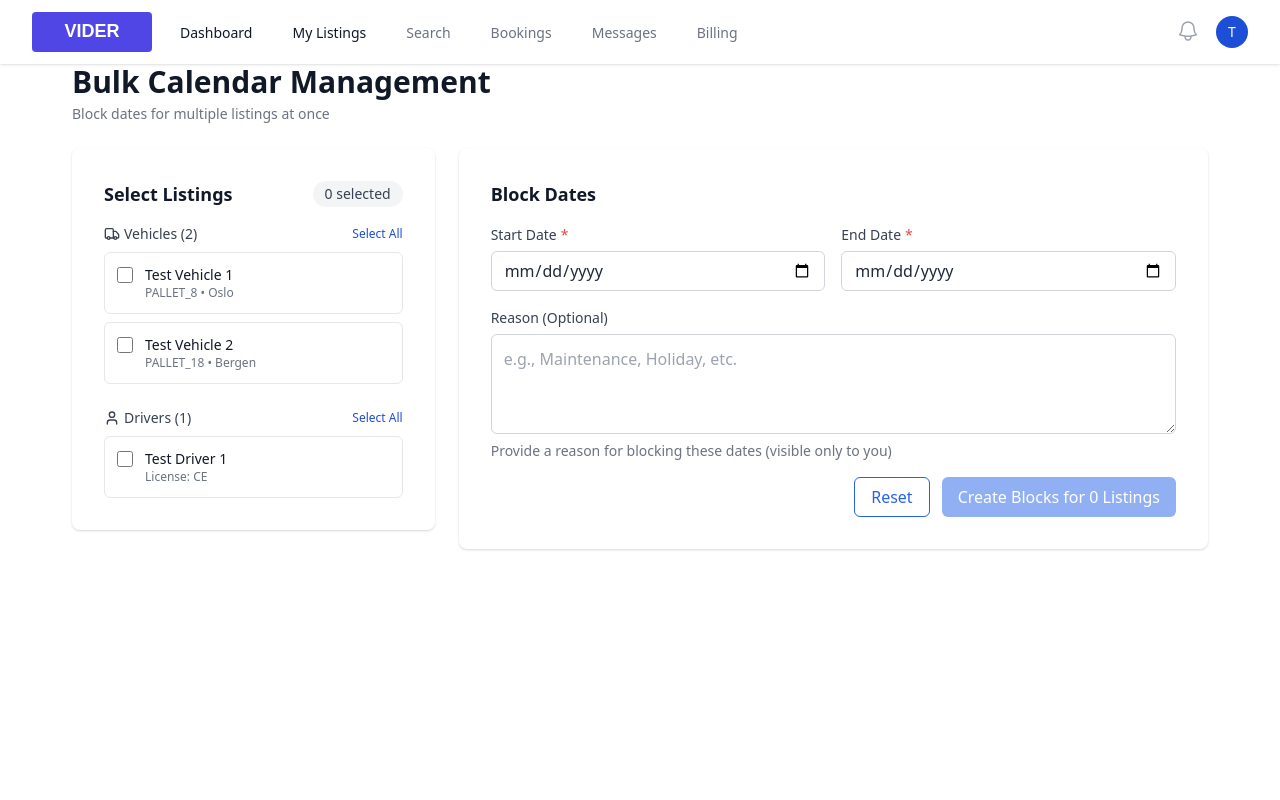
Test: BulkCalendarManagementPage › allows selecting all vehicles
Check: the text "Test Vehicle 1" is shown, box [145, 265, 233, 284]
// Click "Select All" for vehicles
Click the button "Select All" in the row of "Vehicles (" at x=378, y=234, box [352, 226, 403, 242]
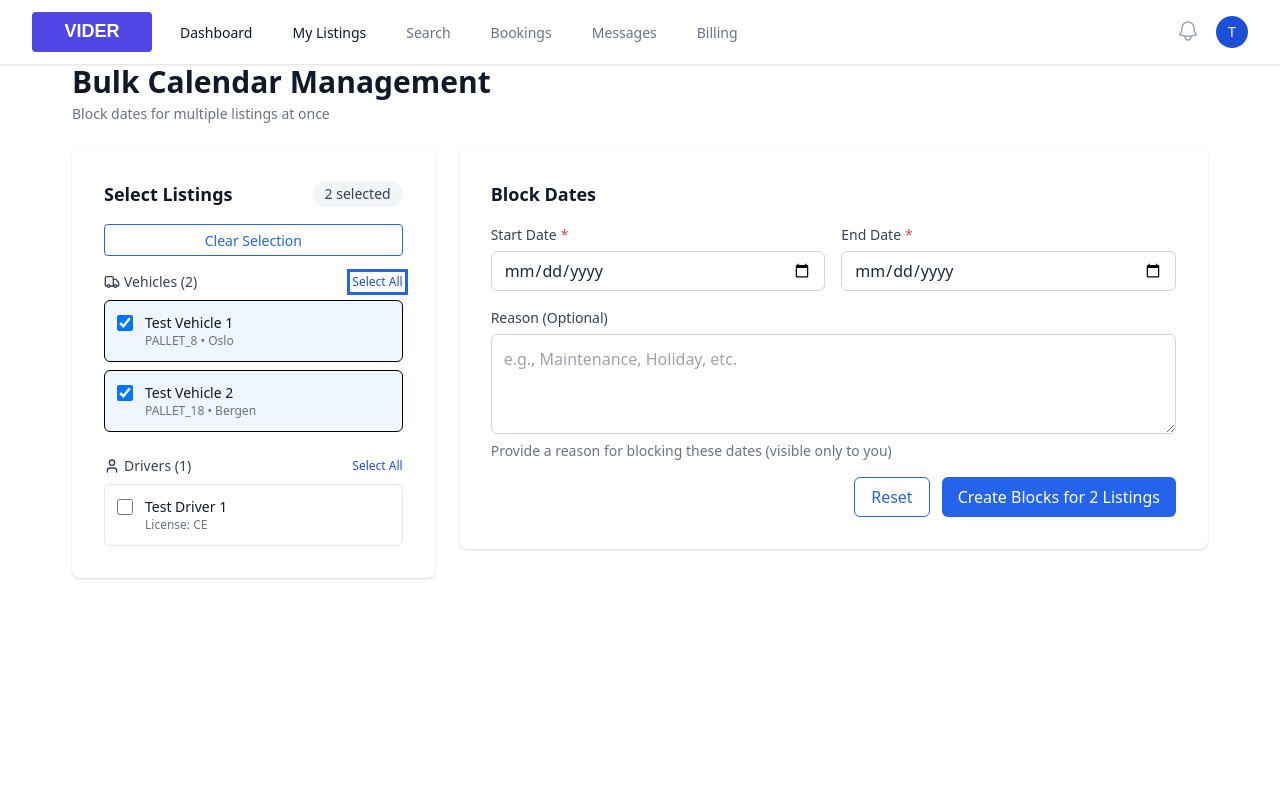
Check: the text "2 selected" is shown, box [313, 181, 403, 207]
